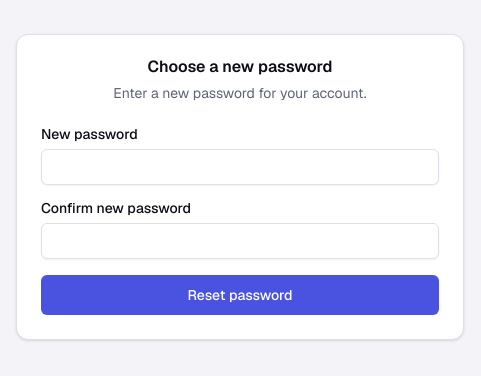
Test: ResetPasswordPage › surfaces the server message when the link is rejected
Step 1. Type "new-password-1" into the password field labelled "New password" → (240,167), box [41,149,439,185]
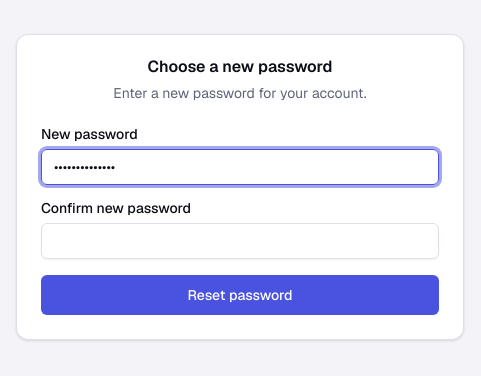
Step 2. Type "new-password-1" into the password field labelled "Confirm new password" → (240,241), box [41,223,439,259]
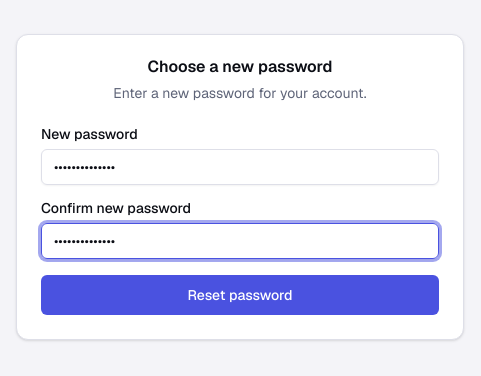
Step 3. Click the button "Reset password" → (240,295), box [41,275,439,315]
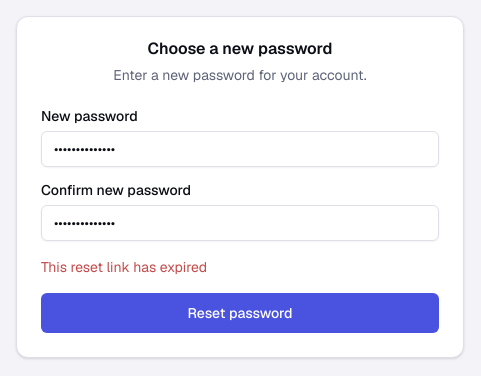
Result: the text "This reset link has expired" is shown at [41,258,207,276]
